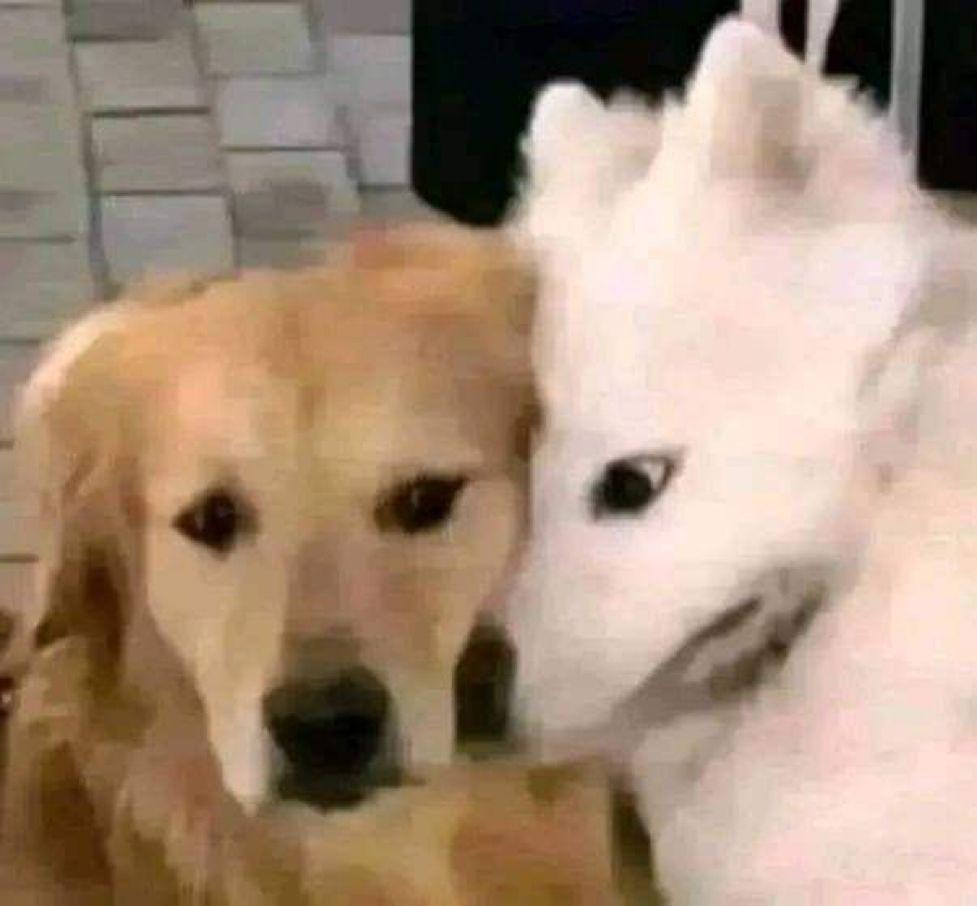adult_dog: (485, 14, 977, 906), (4, 229, 636, 906)
